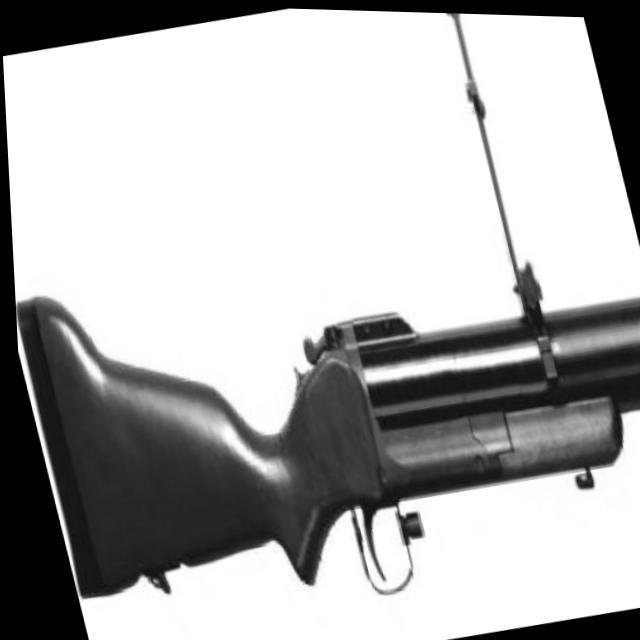weapon: (7, 174, 640, 640)
